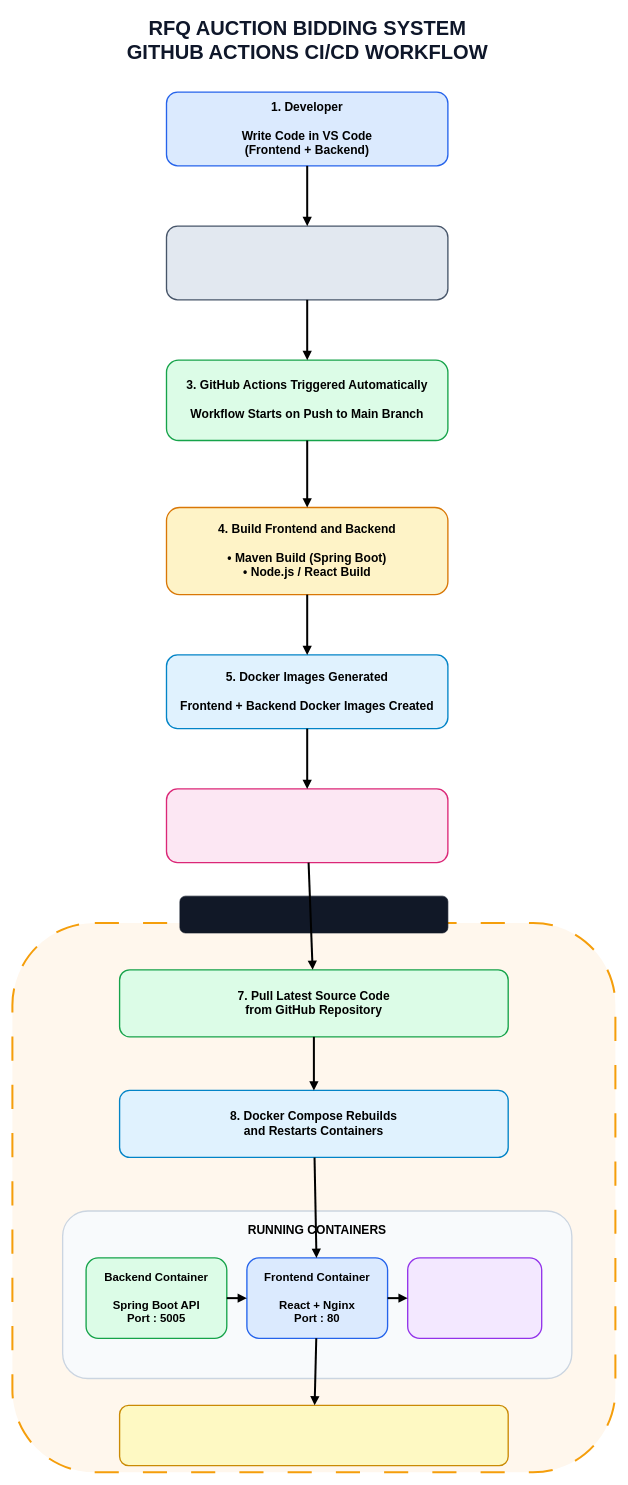
Some shapes in this 628 by 1485 pixel diagram are drawn without their labels. Each missing label, with the centre of its shape:
"2. Push Code to GitHub Repository git add → commit → push" goes at point 306,262.
"6. GitHub Actions Connects to AWS EC2 Deployment through Secure SSH" goes at point 306,825.
"9. Live Website Accessible using EC2 Public IP" goes at point 314,1435.
"AWS EC2 SERVER" goes at point 313,914.
"MongoDB Atlas Cloud Database" goes at point 474,1298.
